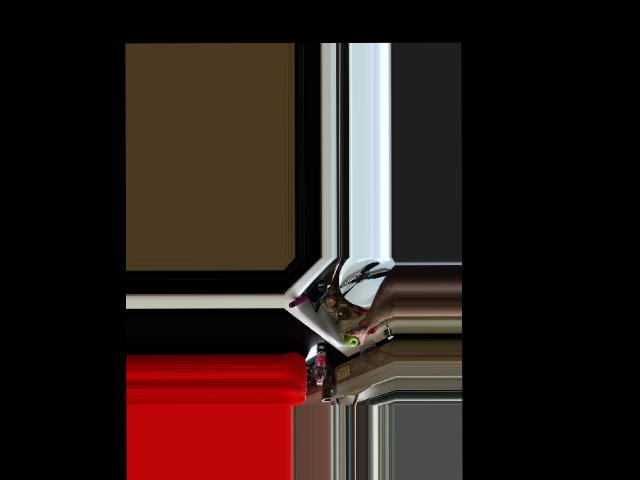apple: (344, 330, 358, 348)
